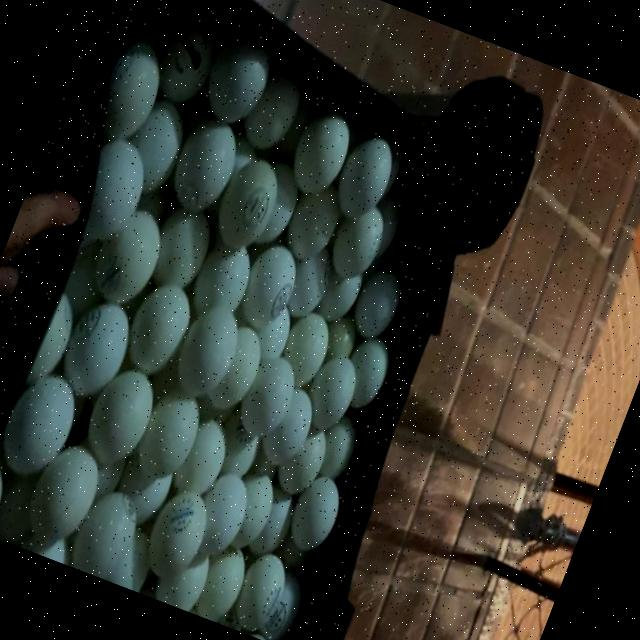ping-pong-ball: (15, 430, 116, 562), (85, 28, 180, 154), (73, 355, 168, 479), (0, 361, 91, 489), (67, 130, 162, 252), (78, 199, 174, 315), (164, 294, 256, 412), (203, 148, 293, 267), (54, 286, 145, 402), (160, 105, 250, 222), (124, 381, 214, 498), (134, 479, 224, 588), (116, 273, 206, 382), (140, 190, 228, 299), (276, 100, 363, 210), (180, 462, 264, 573), (66, 478, 152, 586), (324, 126, 410, 230), (230, 344, 309, 451), (165, 406, 246, 504), (234, 235, 311, 337), (222, 543, 302, 640), (216, 460, 292, 560), (321, 197, 395, 290), (254, 382, 327, 476), (277, 468, 353, 558), (298, 344, 374, 434), (194, 533, 264, 629), (342, 256, 414, 347), (146, 532, 222, 616), (272, 302, 342, 392), (336, 328, 404, 415)
